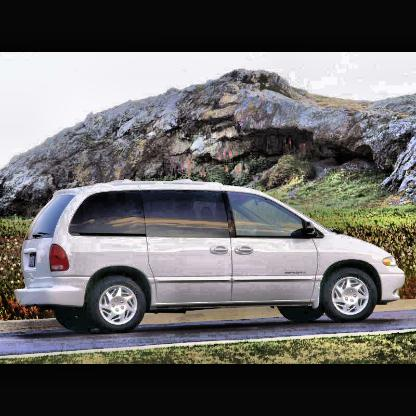Dodge Caravan Minivan 1997: (17, 181, 405, 333)
